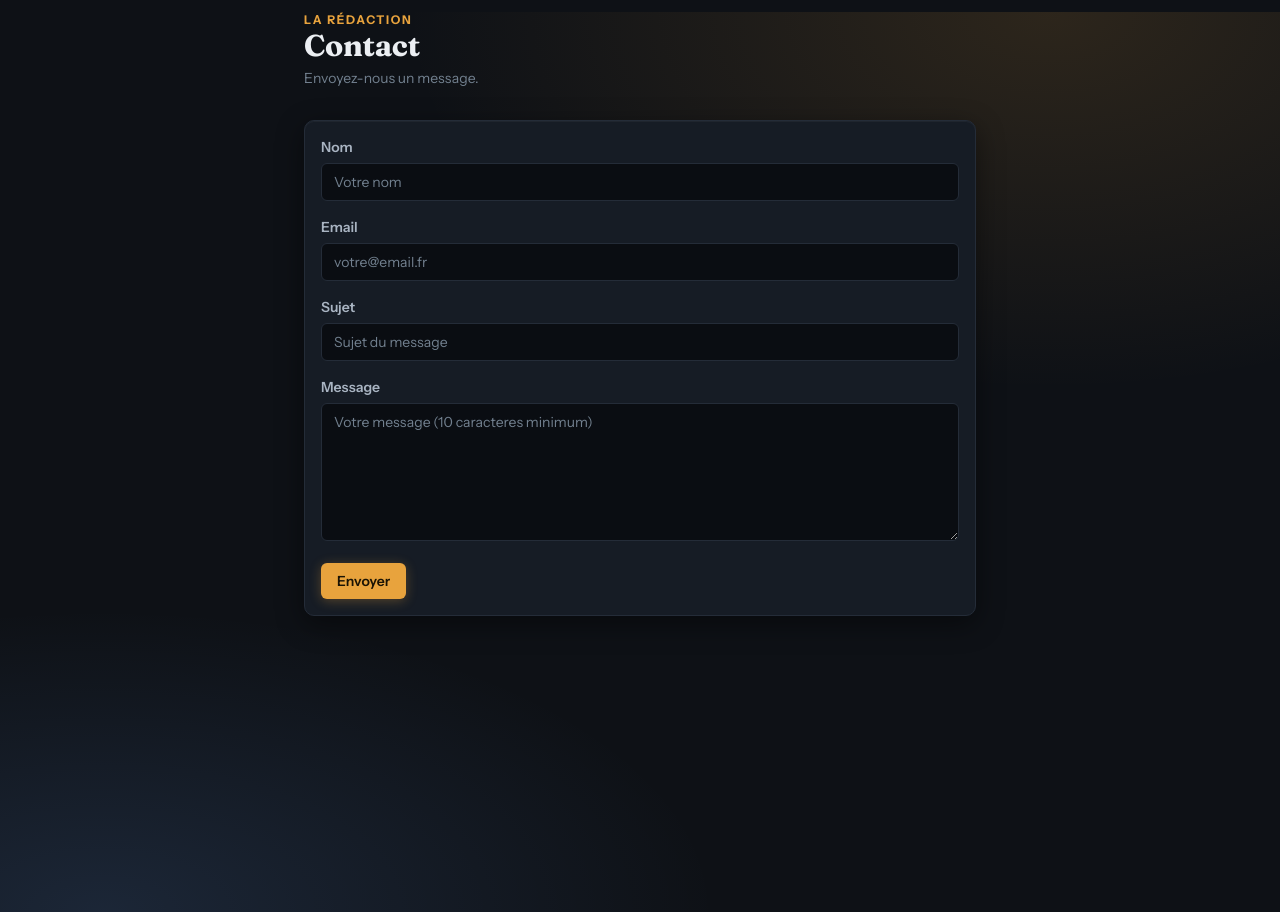
Test: ContactPage › loading : le bouton est desactive pendant l'envoi
This screenshot has width=1280, height=912.
Type "Jean" into the field labelled "Nom" at (640,182), box [321,163,959,201]
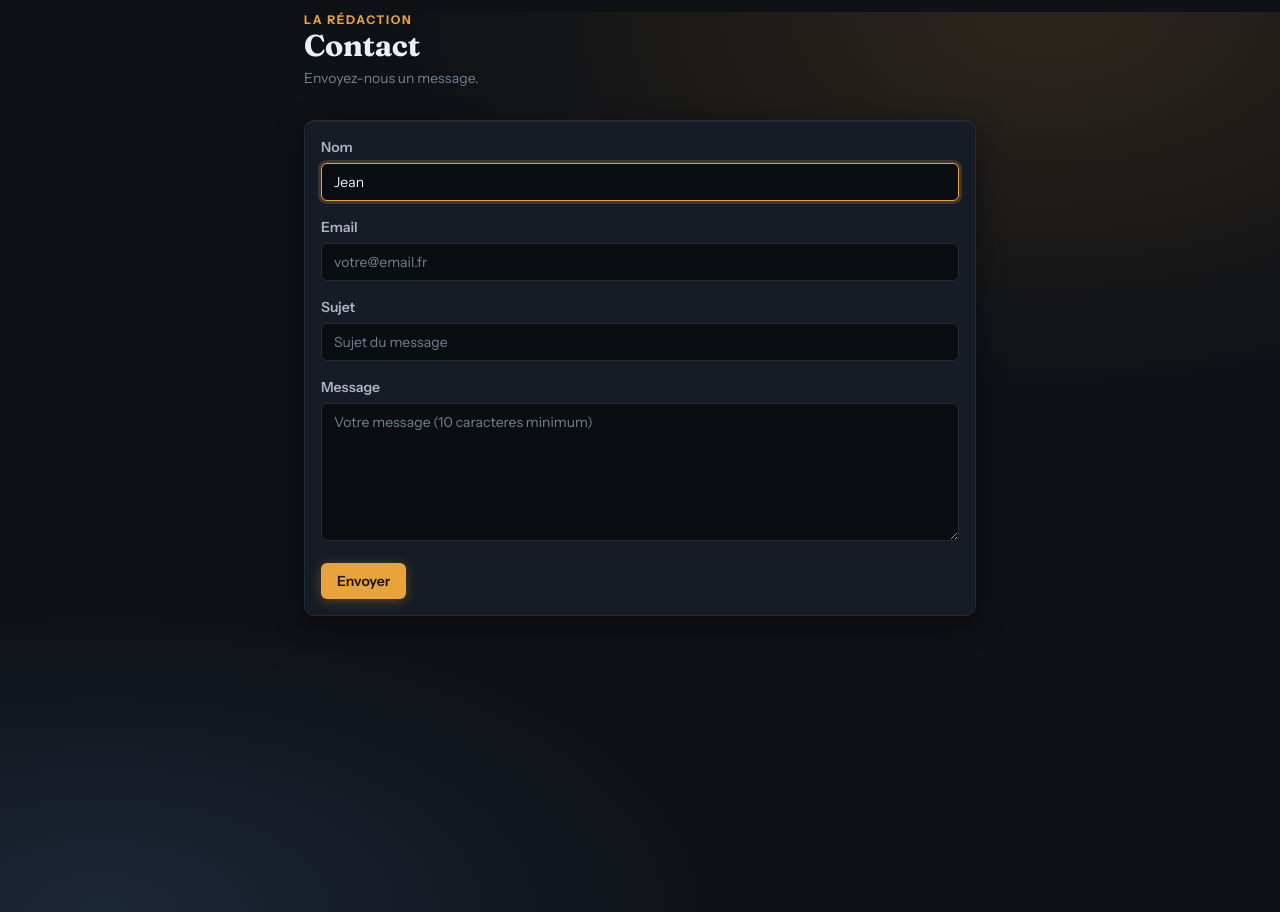
Type "jean@example.fr" into the field labelled "Email" at (640,262), box [321,243,959,281]
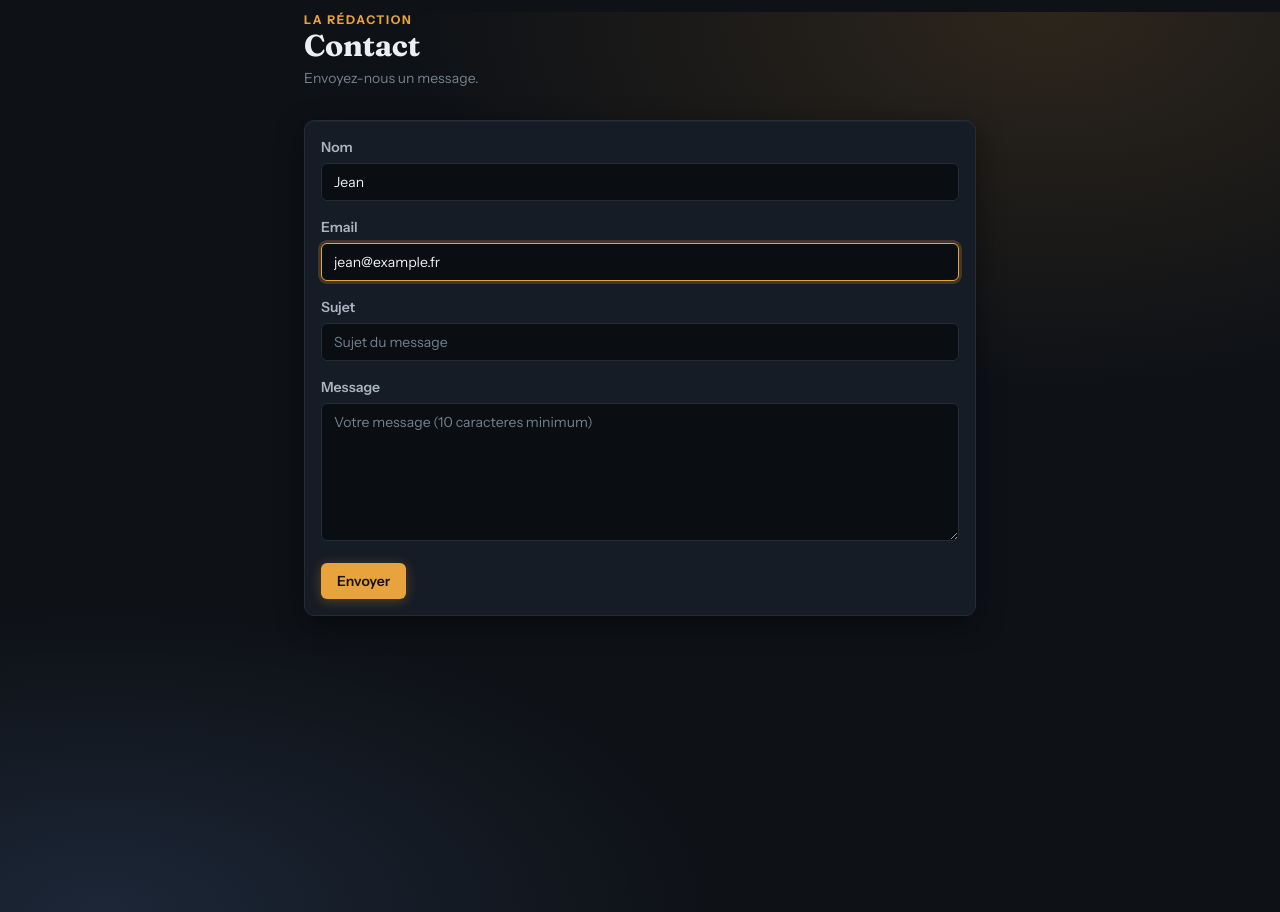
Type "Test" into the field labelled "Sujet" at (640,342), box [321,323,959,361]
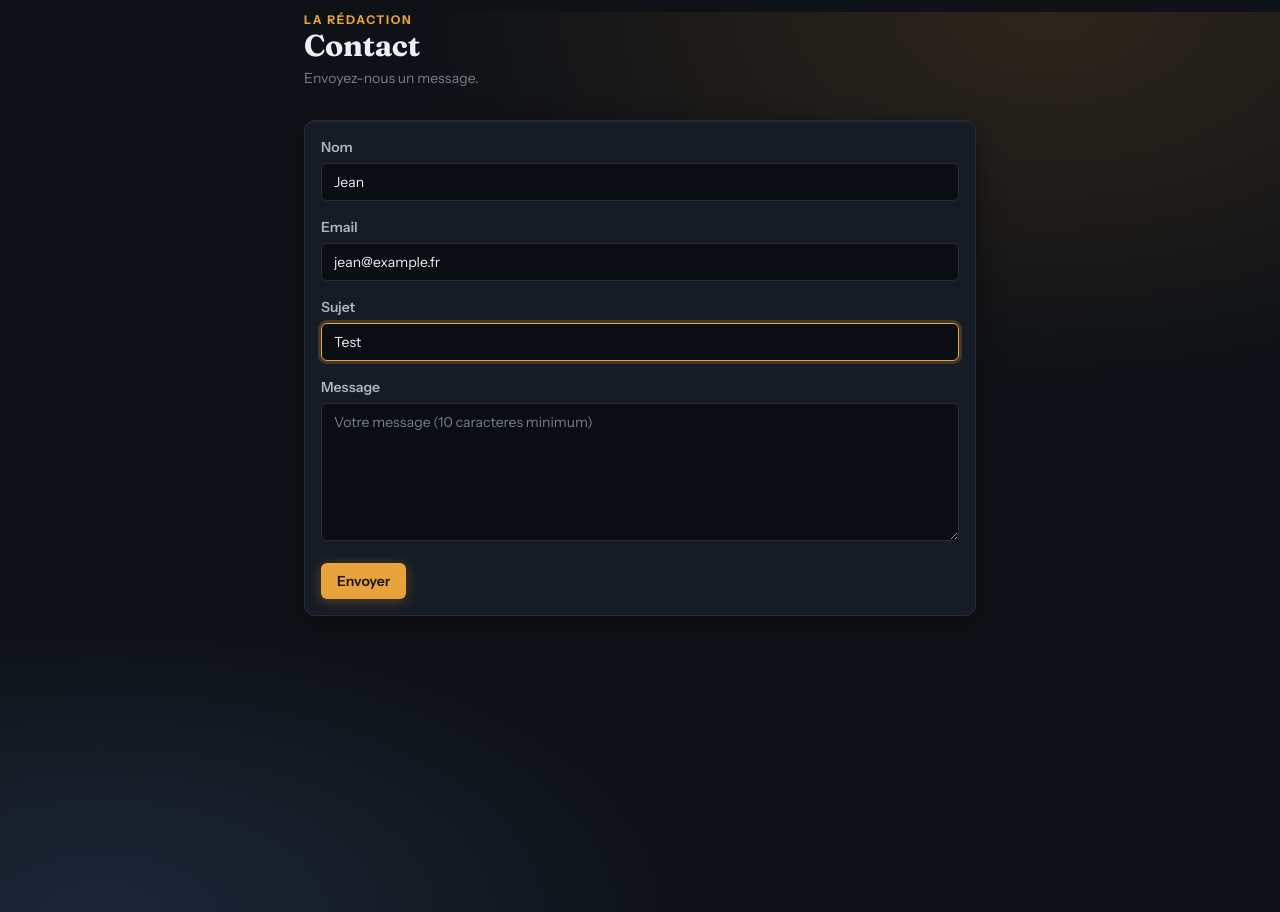
Type "Message de test suffisamment long." into the text box labelled "Message" at (640,472), box [321,403,959,541]
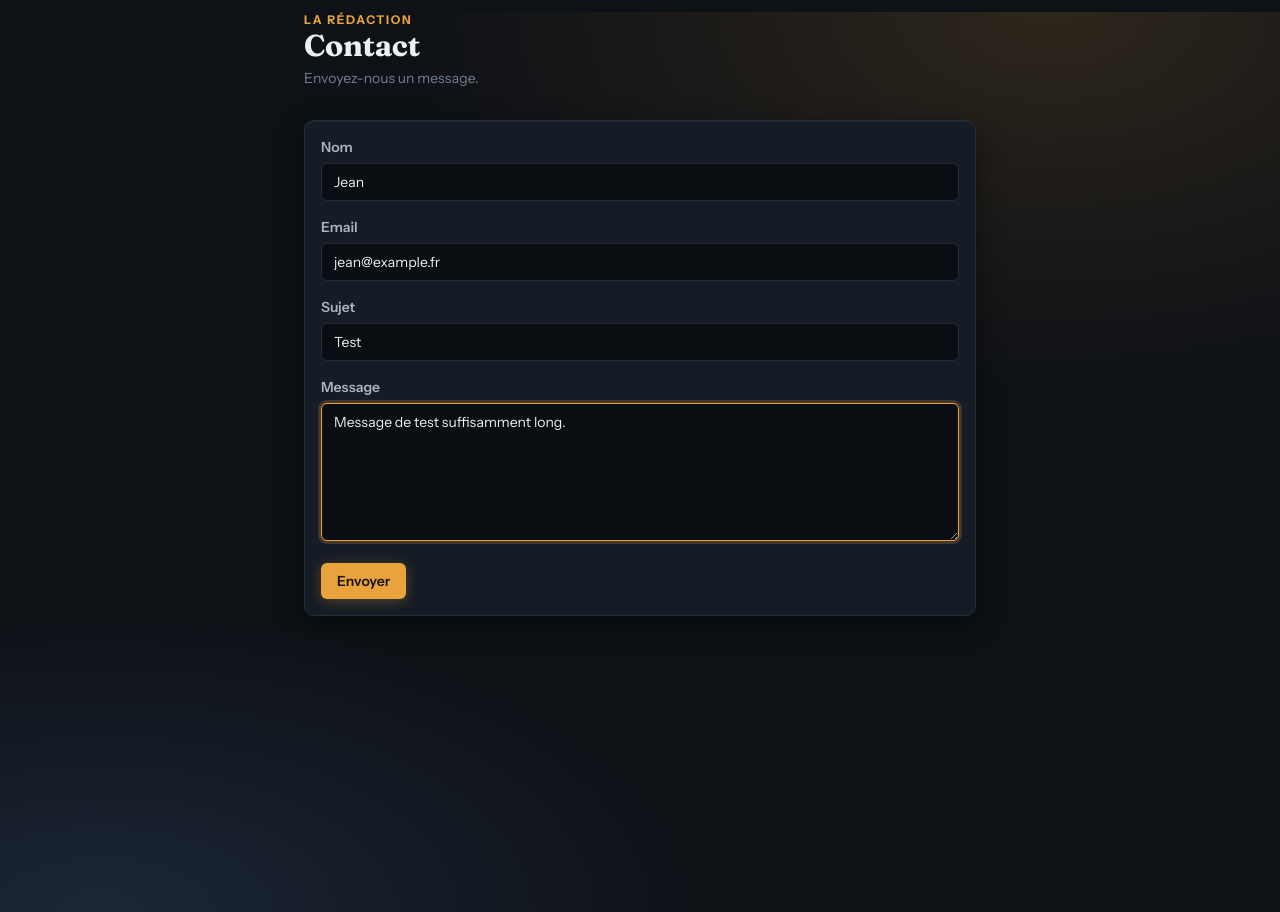
Click the button "Envoyer" at (364,581), box [321,563,406,599]
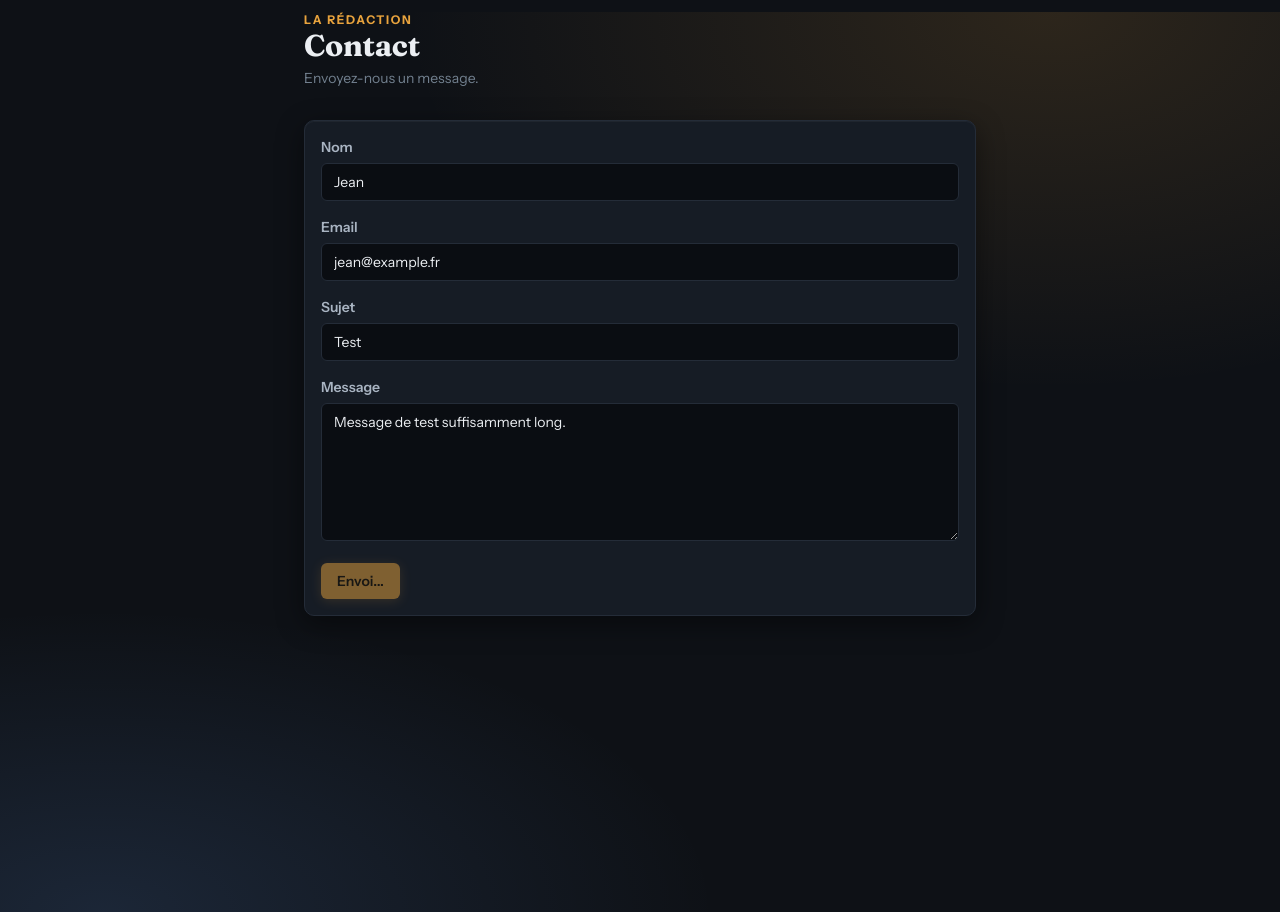
Expected: the button "Envoi..." is disabled, [321,563,400,599]
